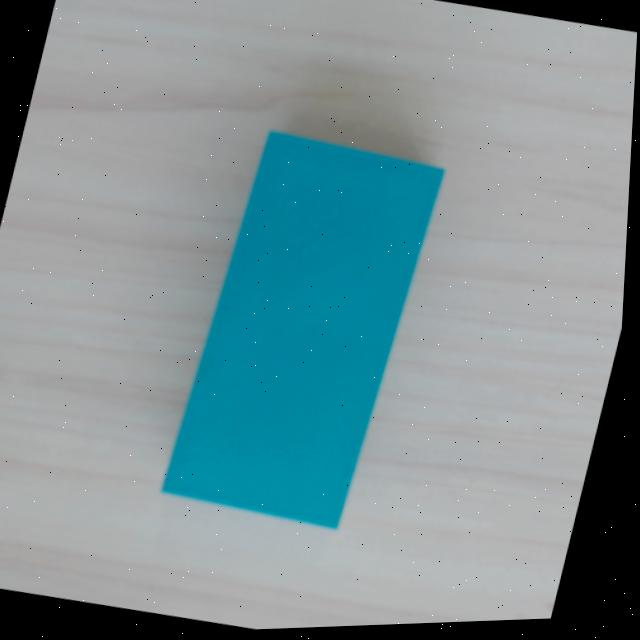Balok-Hijau-1005025: (161, 118, 444, 542)
